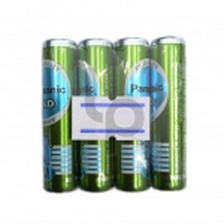battery: (147, 30, 190, 192), (112, 35, 156, 193), (75, 35, 118, 194), (38, 35, 79, 195)
